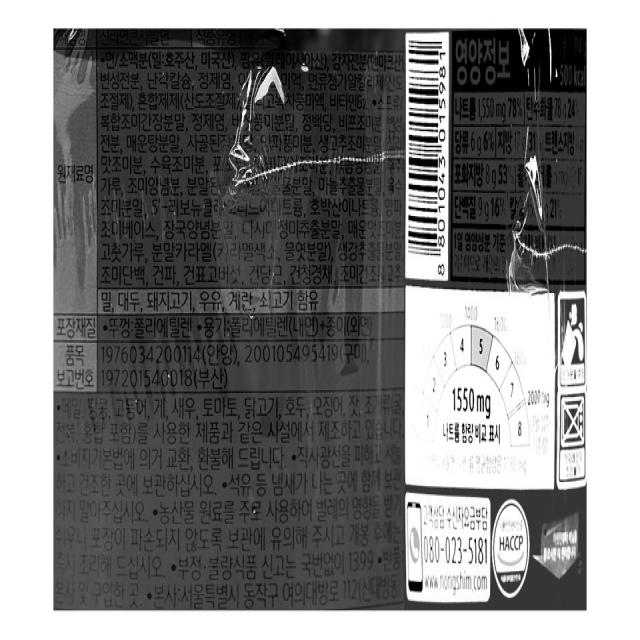Nutrition Label: (449, 21, 592, 293)
